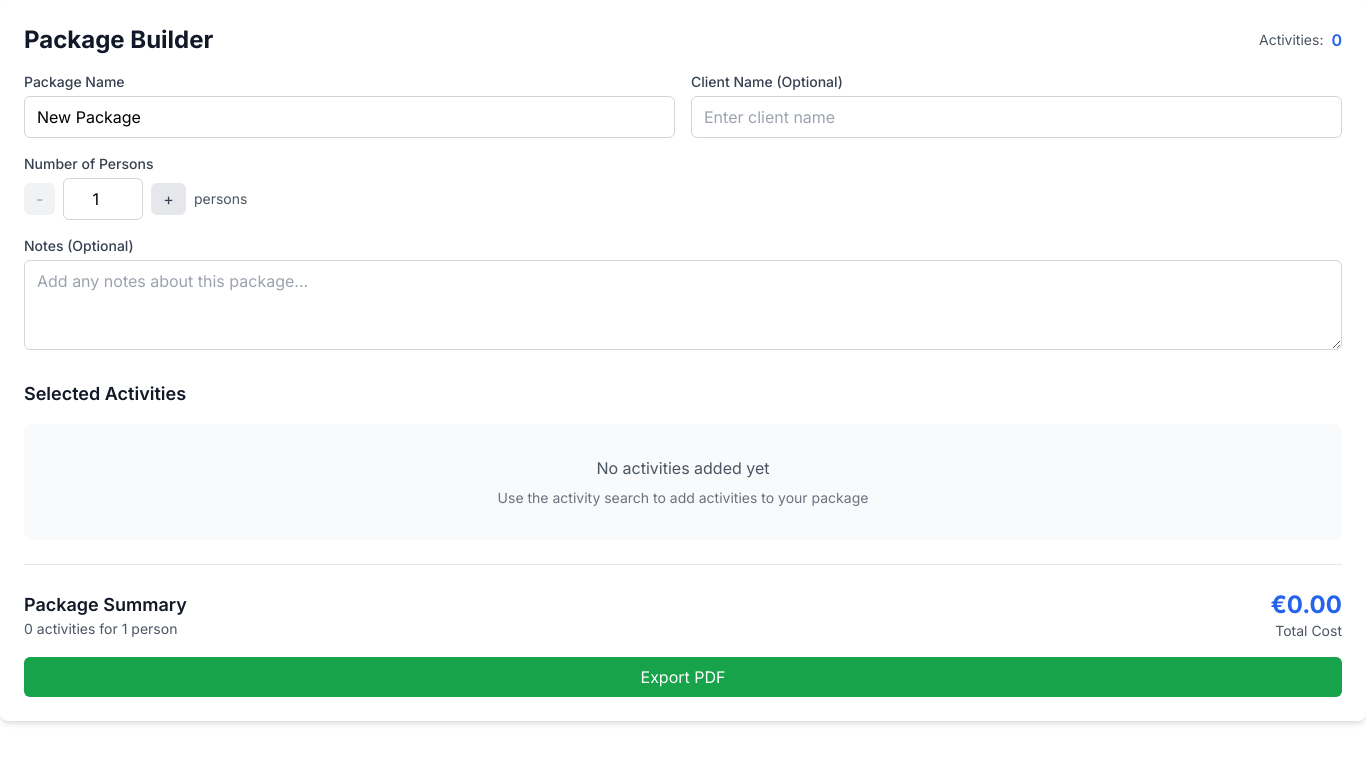
Test: PackageBuilder Component › prevents export when package is empty
Click the button "Export PDF".
click(683, 677)  # box x1=24 y1=657 x2=1342 y2=697
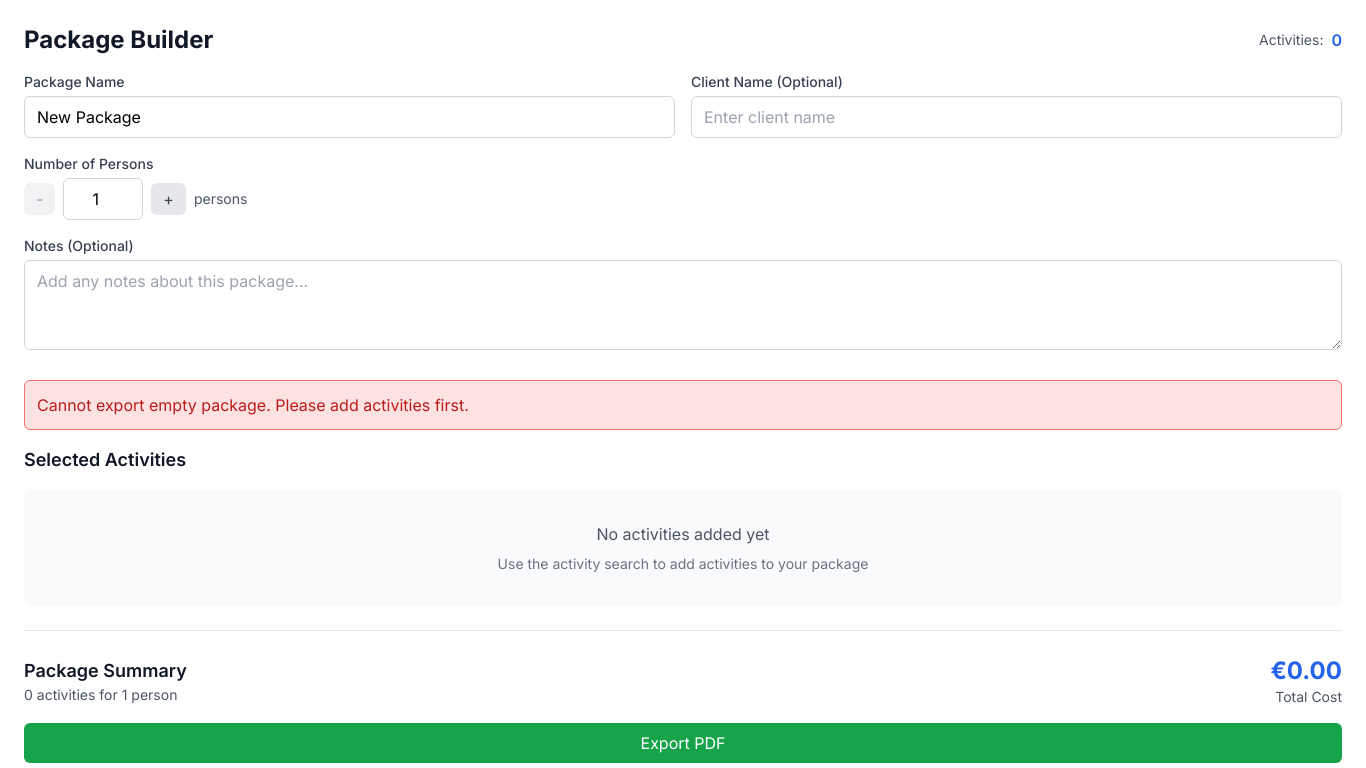
Expected: the text "Cannot export empty package. Please add activities first." is shown, x1=24 y1=380 x2=1342 y2=430
